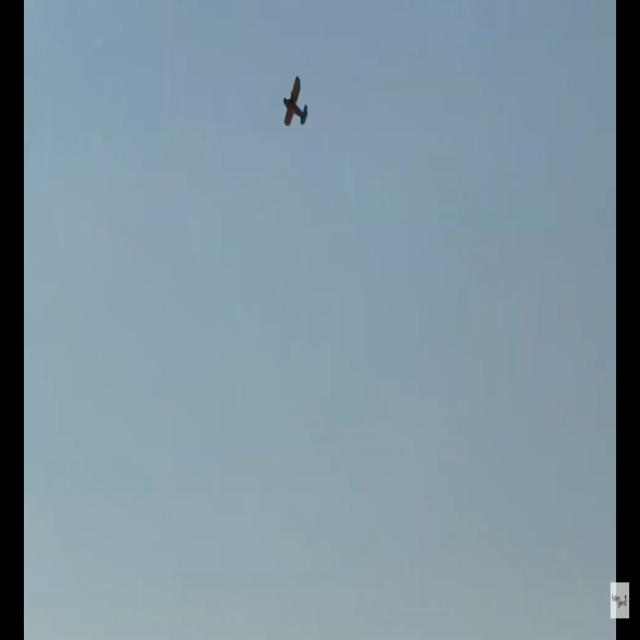iha: (282, 11, 307, 63)
